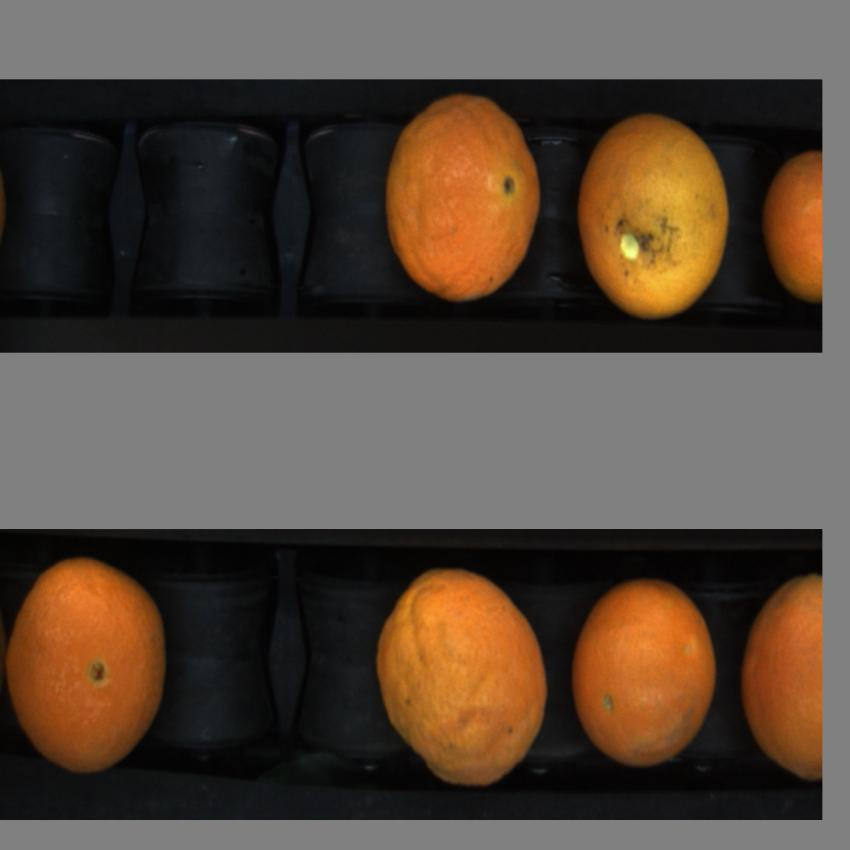Buen estado: (371, 563, 552, 794), (382, 89, 545, 305), (575, 102, 735, 315), (571, 568, 717, 775), (735, 566, 820, 782), (756, 144, 824, 305)
Mal estado: (6, 558, 174, 781)
